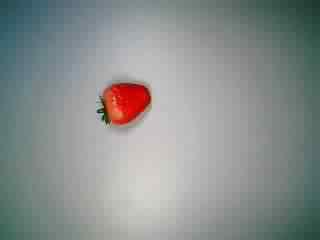strawberry: (91, 71, 159, 135)
